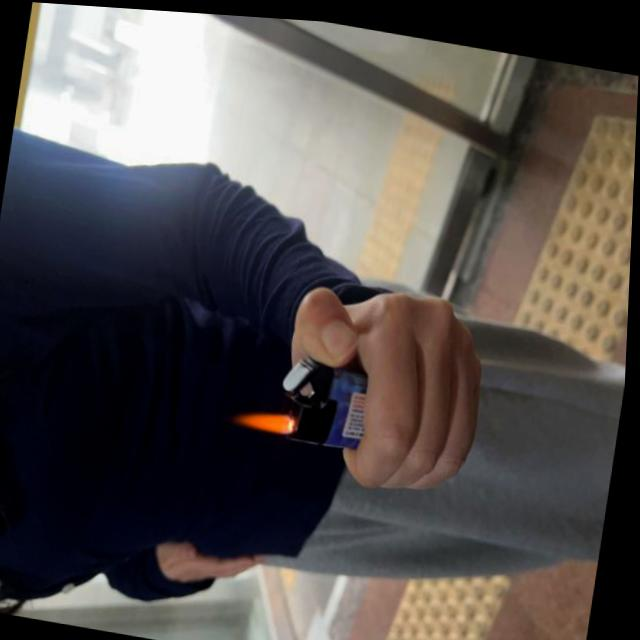Fire: (231, 403, 301, 434)
